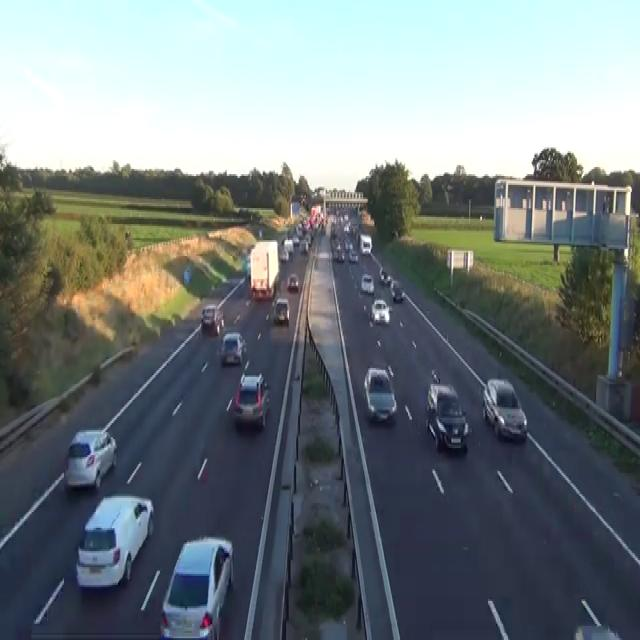Car: (159, 535, 234, 638), (75, 492, 154, 588), (63, 426, 117, 491), (425, 382, 470, 452), (482, 377, 527, 441), (232, 372, 270, 428), (573, 599, 623, 638), (363, 366, 397, 422), (219, 330, 246, 364), (573, 624, 623, 638), (201, 304, 224, 334), (371, 298, 391, 324), (273, 297, 289, 325), (201, 304, 216, 327), (390, 279, 404, 302), (360, 272, 374, 293), (379, 267, 391, 286), (215, 310, 224, 334), (286, 274, 299, 290), (333, 244, 344, 262), (283, 237, 294, 254), (244, 253, 250, 279), (183, 266, 191, 284), (431, 368, 440, 384), (348, 249, 358, 263), (299, 238, 308, 252), (279, 249, 289, 261), (344, 238, 353, 251), (330, 224, 336, 238), (292, 235, 299, 245), (305, 233, 311, 243)
Truck: (249, 238, 279, 300), (359, 233, 372, 254), (310, 204, 321, 226), (290, 201, 300, 217)
